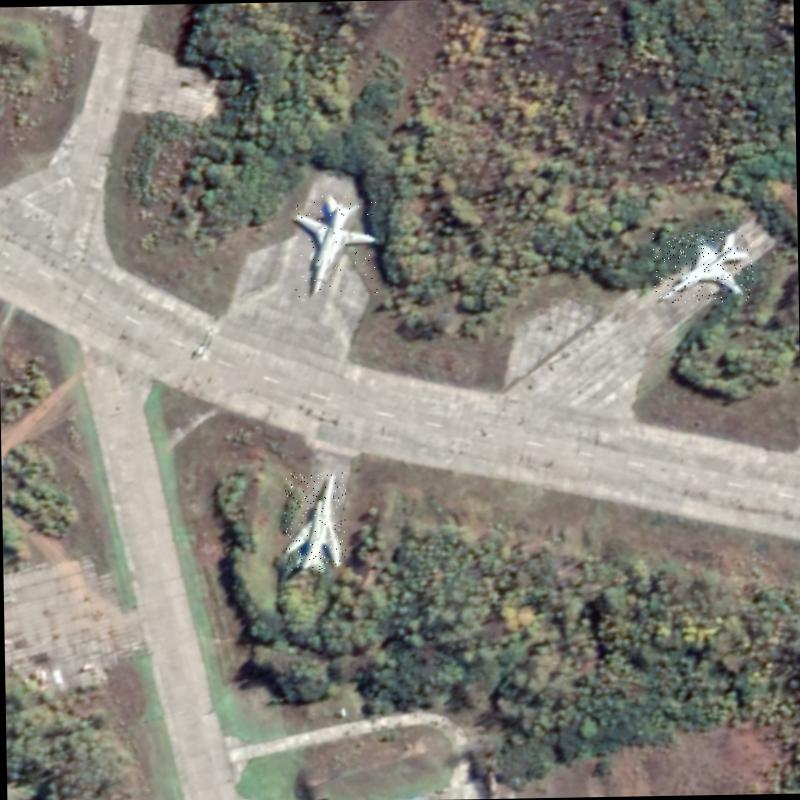A12: (292, 191, 380, 297), (652, 228, 753, 302), (283, 471, 347, 573)
